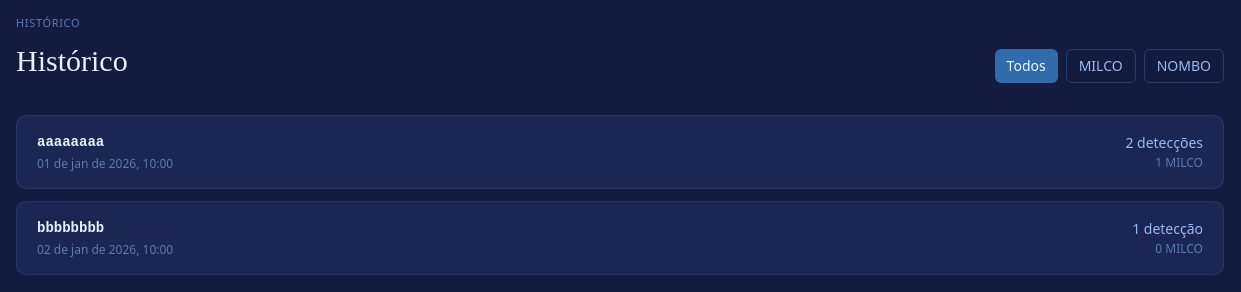
it: HistoricoPage › filters to analyses with NOMBO detections
Check: the text "aaaaaaaa" is shown, box [37,134,104,150]
Click the button "NOMBO": (1184,66) [1144,48,1224,82]
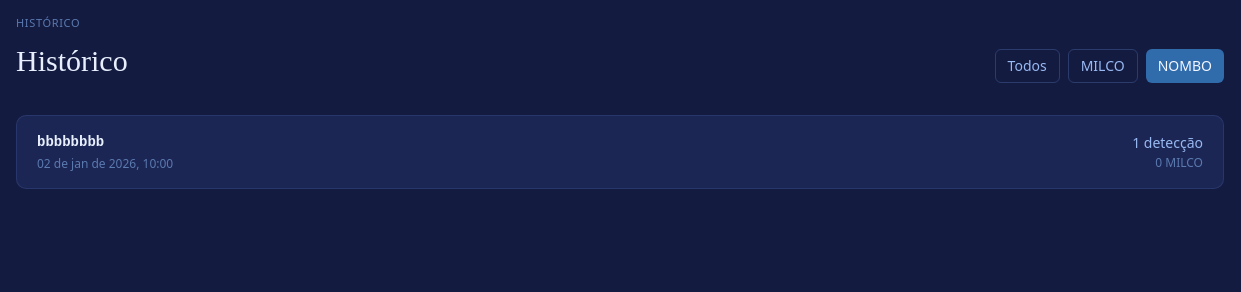
Check: the text "bbbbbbbb" is shown, box [37,134,104,150]
Check: the button "aaaaaaaa" is gone
